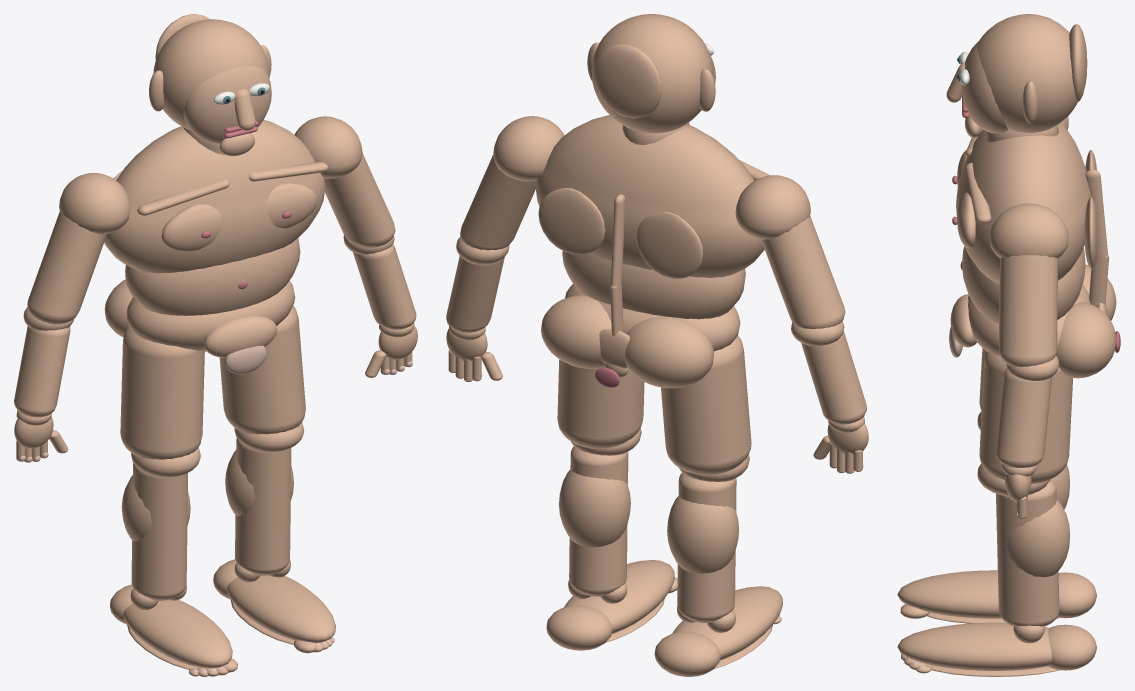
File: body-kleinkind-divers-v2.glb
The picture shows the model from 3 angles, left to right: view 1: azimuth 30°, elevation 25°; view 2: azimuth 150°, elevation 25°; view 3: azimuth 270°, elevation 25°; orthographic projection. The views are drawn at different scales.
Visible parts, largest first — view 1: zone__surface-chest, zone__surface-thigh-left, zone__surface-abdomen, zone__surface-thigh-right, zone__surface-scalp, zone__surface-lower-leg-right, zone__surface-lower-leg-left, zone__surface-upper-arm-left, zone__surface-foot-right, zone__surface-foot-left, zone__surface-pelvis, zone__surface-upper-arm-right (+20 smaller); view 2: zone__surface-chest, zone__surface-thigh-left, zone__surface-scalp, zone__surface-abdomen, zone__surface-thigh-right, zone__surface-upper-arm-left, zone__surface-buttock-left, zone__surface-calf-right, zone__surface-calf-left, zone__surface-lower-leg-left, zone__surface-lower-leg-right, zone__surface-upper-arm-right (+19 smaller); view 3: zone__surface-chest, zone__surface-scalp, zone__surface-upper-arm-right, zone__surface-foot-right, zone__surface-lower-leg-right, zone__surface-thigh-right, zone__surface-forearm-right, zone__surface-foot-left, zone__surface-shoulder-right, zone__surface-buttock-right, zone__surface-calf-right, zone__surface-abdomen (+22 smaller).
Part boxes in pixels (bbox=[...]): zone__surface-chest: bbox=[104, 120, 324, 273]; zone__surface-thigh-left: bbox=[120, 327, 204, 459]; zone__surface-abdomen: bbox=[125, 238, 300, 315]; zone__surface-thigh-right: bbox=[219, 305, 305, 434]; zone__surface-scalp: bbox=[153, 19, 269, 130]; zone__surface-lower-leg-right: bbox=[235, 438, 291, 575]; zone__surface-lower-leg-left: bbox=[131, 463, 187, 600]; zone__surface-upper-arm-left: bbox=[27, 212, 106, 324]; zone__surface-foot-right: bbox=[226, 575, 335, 642]; zone__surface-foot-left: bbox=[123, 600, 232, 668]; zone__surface-pelvis: bbox=[126, 280, 295, 351]; zone__surface-upper-arm-right: bbox=[324, 153, 395, 247]; zone__surface-chest: bbox=[535, 115, 764, 277]; zone__surface-thigh-left: bbox=[661, 336, 751, 475]; zone__surface-scalp: bbox=[591, 14, 713, 133]; zone__surface-abdomen: bbox=[562, 251, 745, 319]; zone__surface-thigh-right: bbox=[557, 359, 644, 448]; zone__surface-upper-arm-left: bbox=[761, 215, 845, 328]; zone__surface-buttock-left: bbox=[625, 316, 713, 388]; zone__surface-calf-right: bbox=[559, 469, 630, 547]; zone__surface-calf-left: bbox=[667, 496, 738, 573]; zone__surface-lower-leg-left: bbox=[677, 473, 736, 622]; zone__surface-lower-leg-right: bbox=[569, 446, 628, 596]; zone__surface-upper-arm-right: bbox=[460, 155, 535, 250]; zone__surface-chest: bbox=[956, 123, 1090, 284]; zone__surface-scalp: bbox=[977, 14, 1077, 132]; zone__surface-upper-arm-right: bbox=[999, 255, 1058, 366]; zone__surface-foot-right: bbox=[897, 622, 1051, 670]; zone__surface-lower-leg-right: bbox=[996, 479, 1059, 626]; zone__surface-thigh-right: bbox=[979, 351, 1072, 483]; zone__surface-forearm-right: bbox=[996, 368, 1051, 467]; zone__surface-foot-left: bbox=[897, 570, 1001, 618]; zone__surface-shoulder-right: bbox=[989, 203, 1068, 257]; zone__surface-buttock-right: bbox=[1056, 302, 1116, 378]; zone__surface-calf-right: bbox=[1007, 499, 1069, 577]; zone__surface-abdomen: bbox=[962, 246, 1085, 323].
Size of the model in its own units: 0.7021 by 0.9994 by 0.3264.
